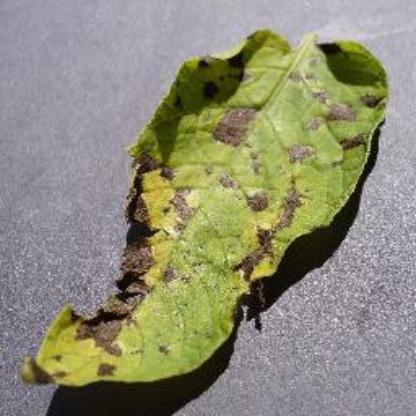Early-Blight: (22, 25, 390, 396)
